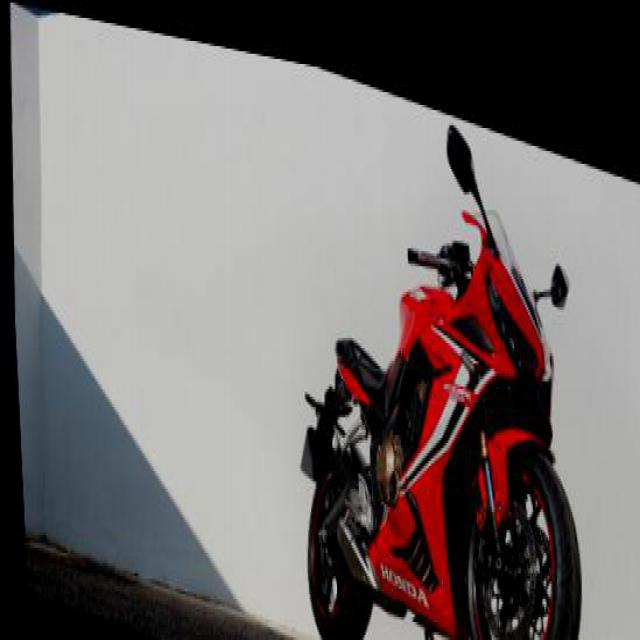CBR650R: (282, 123, 596, 637)
